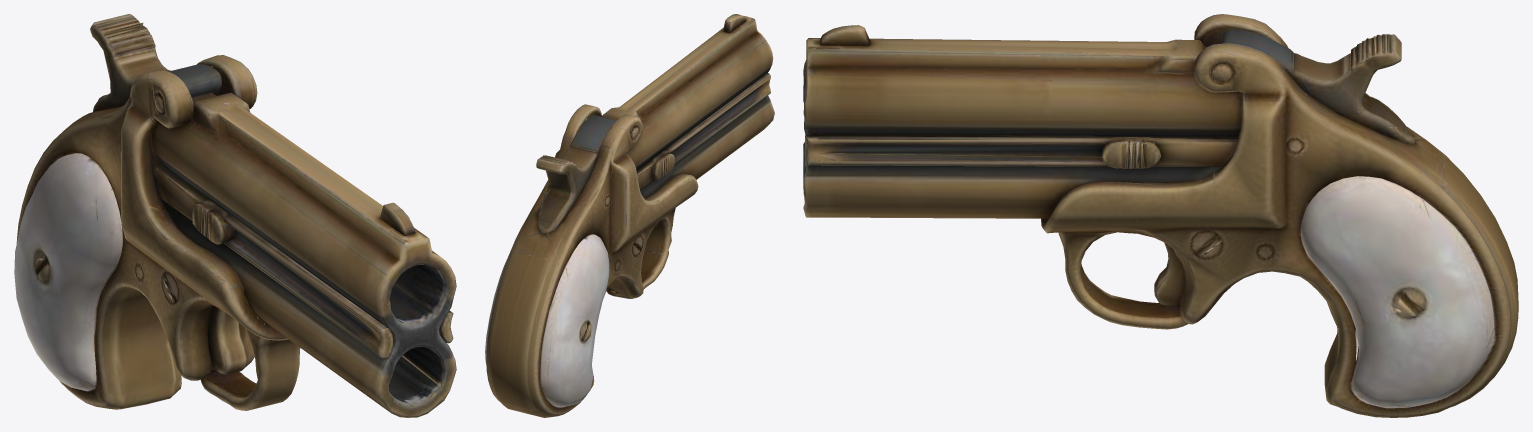
The model's file is derringer.glb.
3 renders of one model, left to right at view 1: azimuth 30°, elevation 25°; view 2: azimuth 150°, elevation 25°; view 3: azimuth 270°, elevation 25°, orthographic. The views are drawn at different scales.
Visible parts, largest first — view 1: w_derringer; view 2: w_derringer; view 3: w_derringer.
Boxes of the visible parts, box(x1,y1,x2,y2) form: w_derringer: box(14, 14, 456, 417); w_derringer: box(485, 14, 774, 417); w_derringer: box(803, 14, 1518, 417).
Bounding box in the file's own units: 0.0498 × 0.1407 × 0.24.
Materials: 1 (1 with a texture image).
